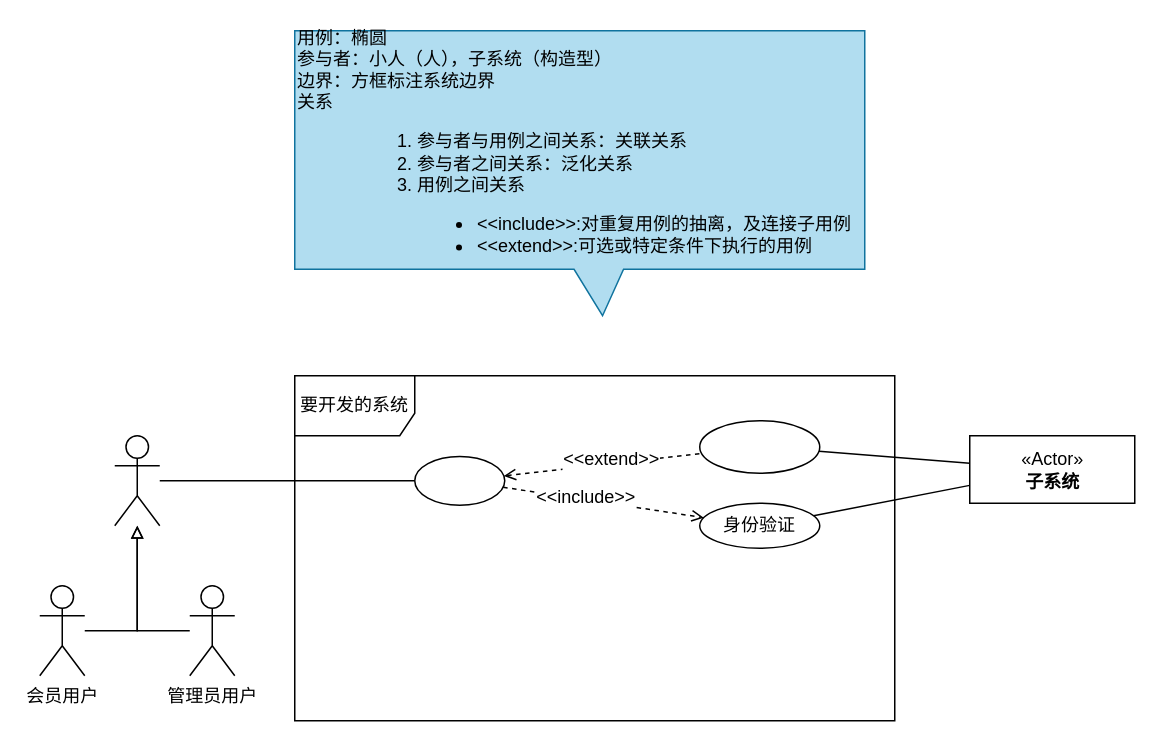
Some shapes in this 1161 by 747 pixel diagram are drawn without their labels. Each missing label, with the box of its shape:
修改密码: (698, 419, 820, 473)
用户: (113, 434, 160, 526)
登入: (413, 455, 505, 505)
